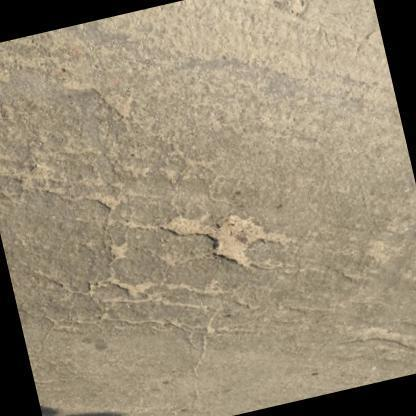pothole: (162, 204, 284, 270), (356, 318, 416, 354), (105, 274, 163, 304)
